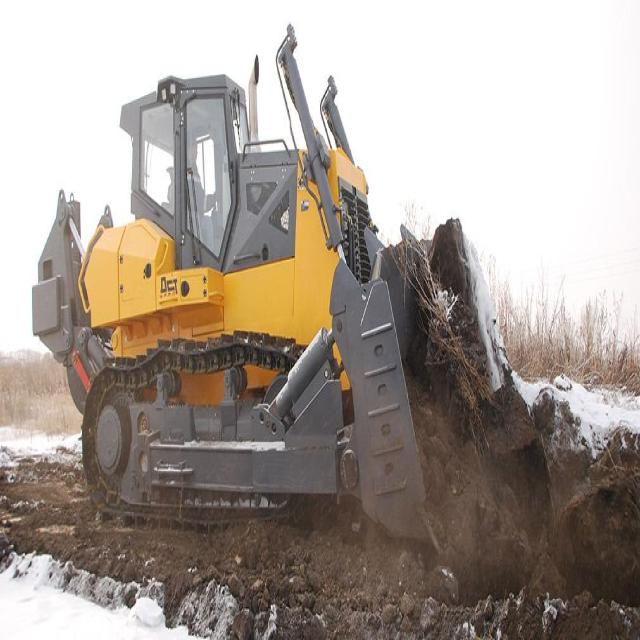buldozerpayloadergrader: (32, 18, 505, 569)
